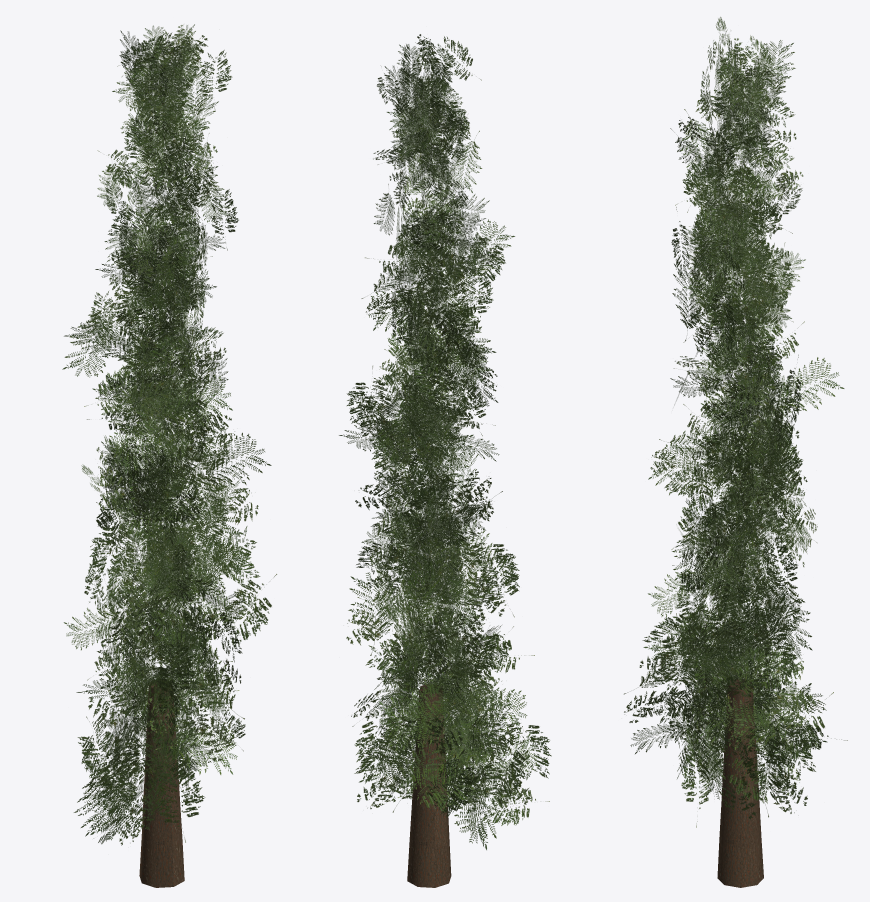
Rendered from cypress_5.glb.
3 views of the same model, side by side, from view 1: azimuth 30°, elevation 25°; view 2: azimuth 150°, elevation 25°; view 3: azimuth 270°, elevation 25° (orthographic). The views are drawn at different scales.
Visible parts, largest first — view 1: cypress; view 2: cypress; view 3: cypress.
Boxes of the visible parts, x1,y1,x2,y2 form: cypress: [62, 24, 276, 887]; cypress: [339, 34, 551, 887]; cypress: [624, 17, 847, 887].
Size of the model in its own units: 3.39 by 12.34 by 3.32.
Materials: 2 (2 with a texture image).
